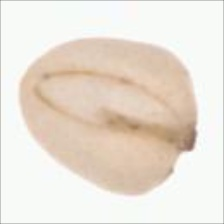L5: (35, 69, 183, 142), (14, 49, 48, 132), (180, 114, 198, 158)
L6: (14, 37, 200, 198)
